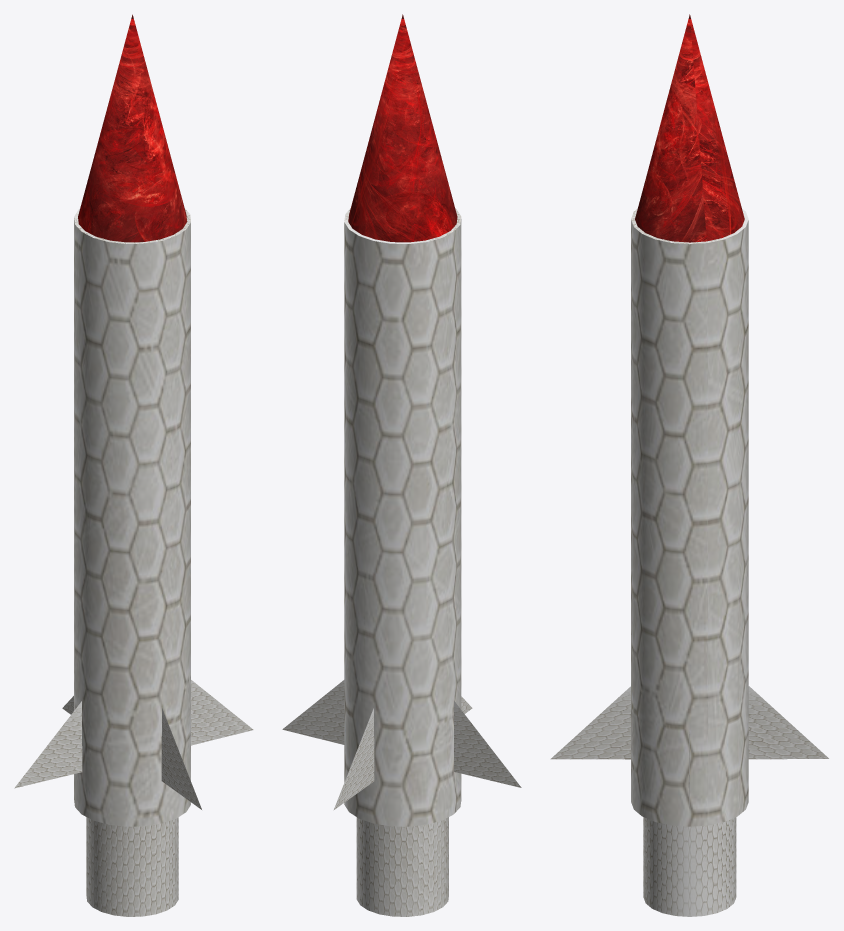
File: missile1.fbx
3 renders of one model, left to right at view 1: azimuth 30°, elevation 25°; view 2: azimuth 150°, elevation 25°; view 3: azimuth 270°, elevation 25°, orthographic.
Visible parts, largest first — view 1: pCone2; view 2: pCone2; view 3: pCone2.
Part boxes in pixels (bbox=[...]): pCone2: bbox=[14, 14, 253, 916]; pCone2: bbox=[282, 14, 521, 916]; pCone2: bbox=[550, 14, 828, 916].
Bounding box in the file's own units: 2.43 × 8.55 × 2.45.
2 materials, 2 textured.
